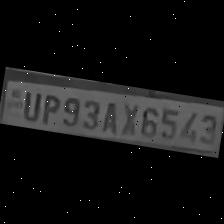3: (195, 108, 220, 144), (79, 94, 103, 130)
4: (178, 106, 200, 142)
5: (156, 104, 180, 140)
6: (135, 100, 160, 136)
9: (57, 92, 83, 127)
A: (99, 96, 122, 134)
P: (37, 88, 61, 124)
U: (17, 86, 42, 122)
X: (117, 98, 140, 135)
